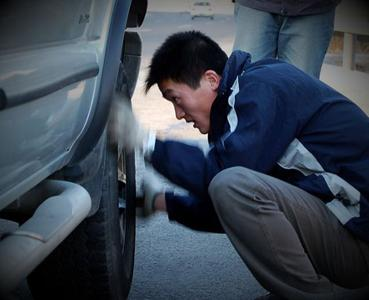person: (108, 32, 369, 300)
